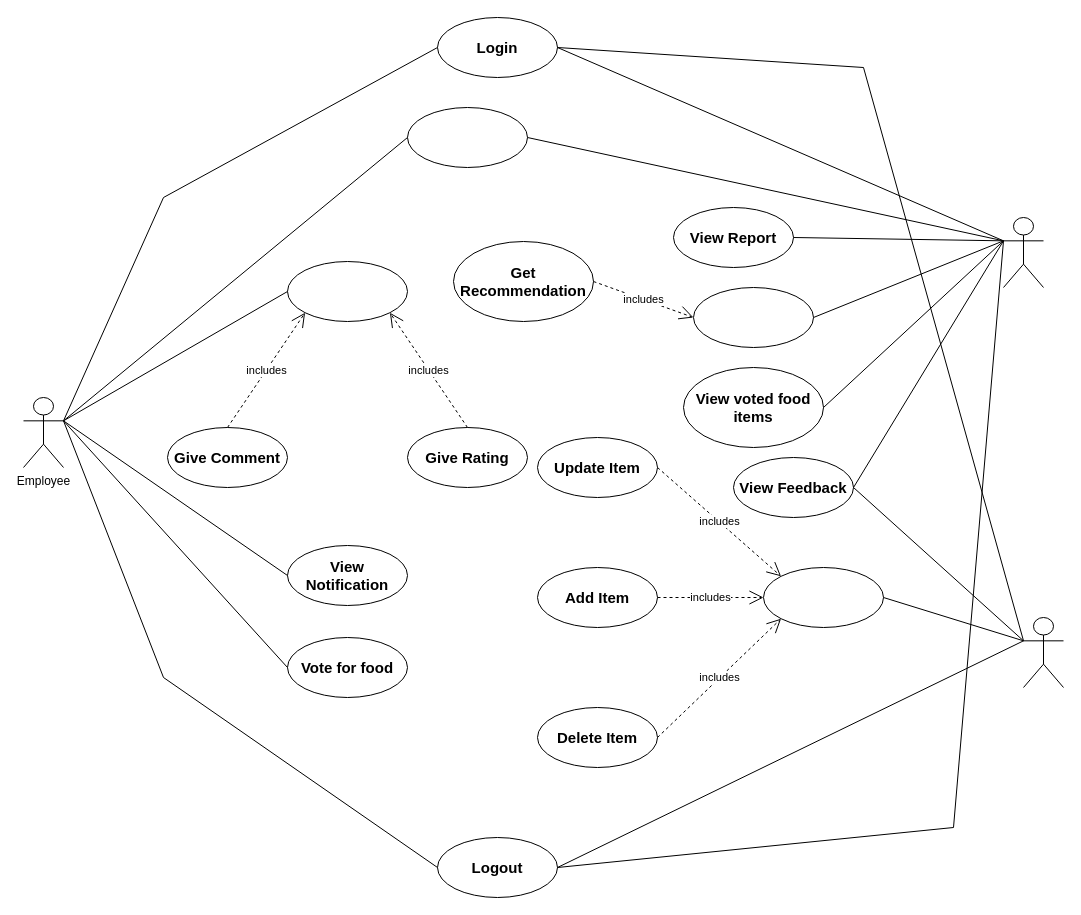
This 1081x915 diagram has some shape labels left out. Here are the shapes that lost their labels. From the top down, the box of each, then its label:
(406, 106, 528, 168): View Menu
(1002, 216, 1044, 288): Chef
(286, 260, 408, 322): Give feedback
(692, 286, 814, 348): Roll-out Menu
(762, 566, 884, 628): Manage Menu
(1022, 616, 1064, 688): Admin
